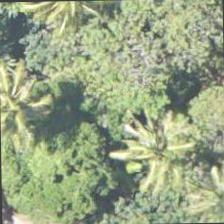Kelapa_Sawit: (108, 119, 200, 210), (0, 48, 47, 140)
